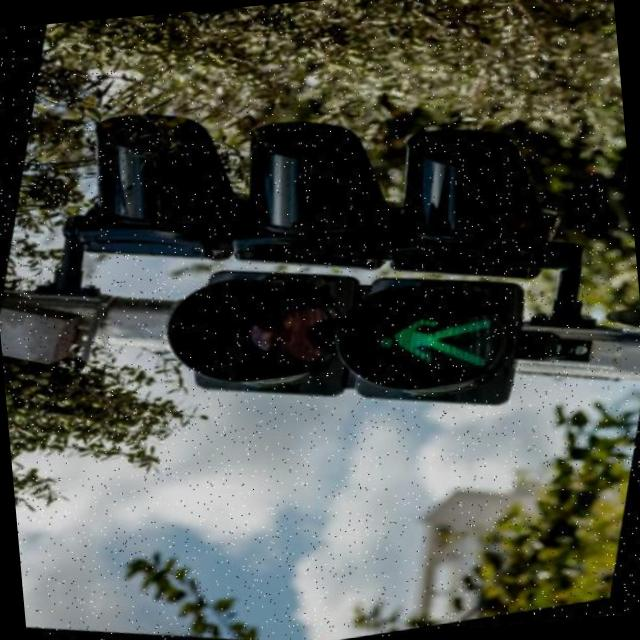green_light: (355, 292, 505, 402)
